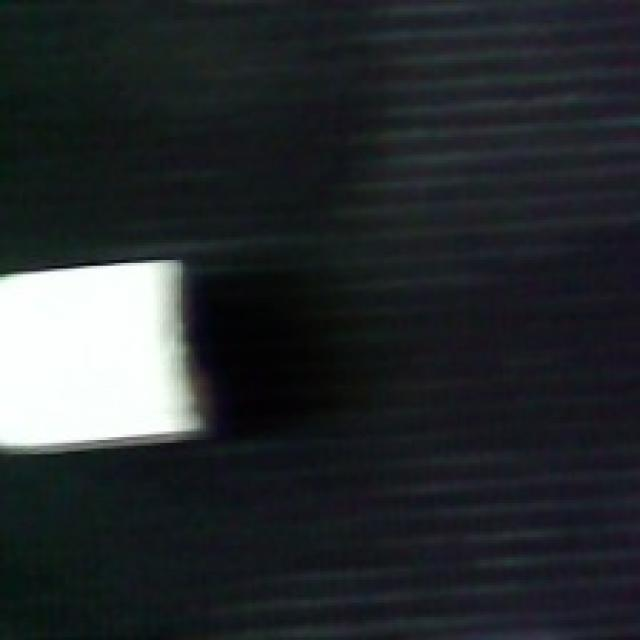defected: (0, 254, 211, 459)
